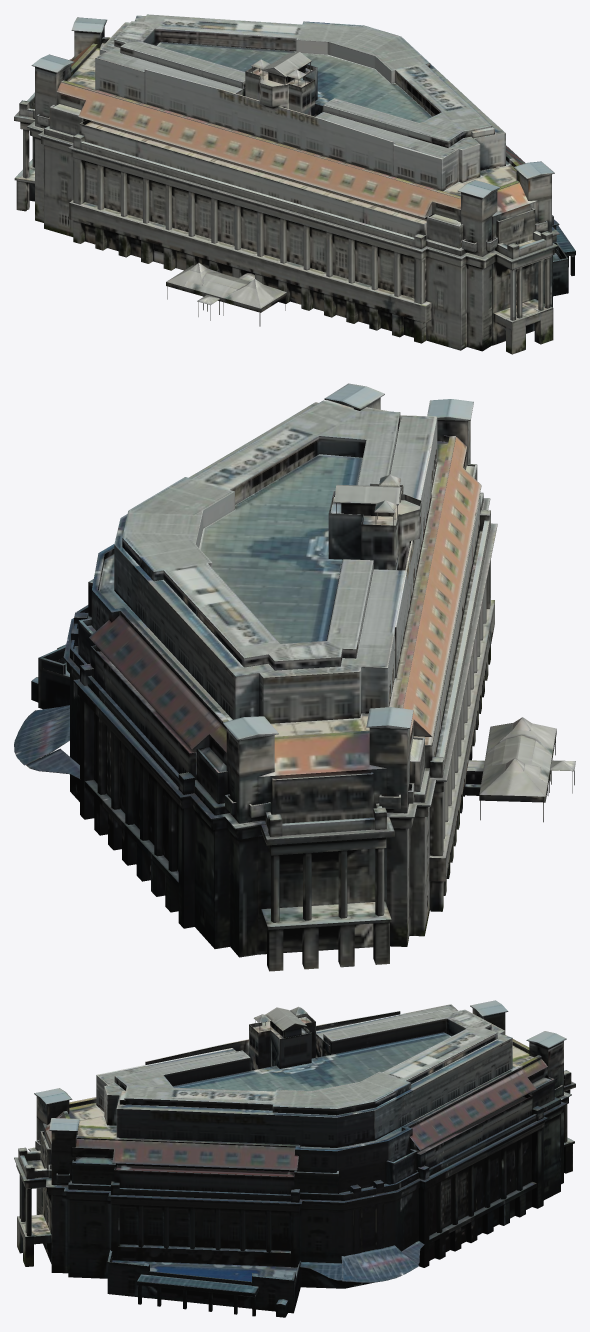
3 renders of one model, top to bottom at view 1: azimuth 30°, elevation 25°; view 2: azimuth 150°, elevation 25°; view 3: azimuth 270°, elevation 25°, orthographic. The views are drawn at different scales.
Parts seen in each view (by area): view 1: 11_0.glb; view 2: 11_0.glb; view 3: 11_0.glb.
Part boxes in pixels (box(x1,y1,x2,y2)): 11_0.glb: box(14, 14, 575, 354); 11_0.glb: box(14, 383, 575, 971); 11_0.glb: box(14, 1000, 575, 1317).
Size of the model in its own units: 97.77 by 50.7 by 133.
Materials: 1 (1 with a texture image).
